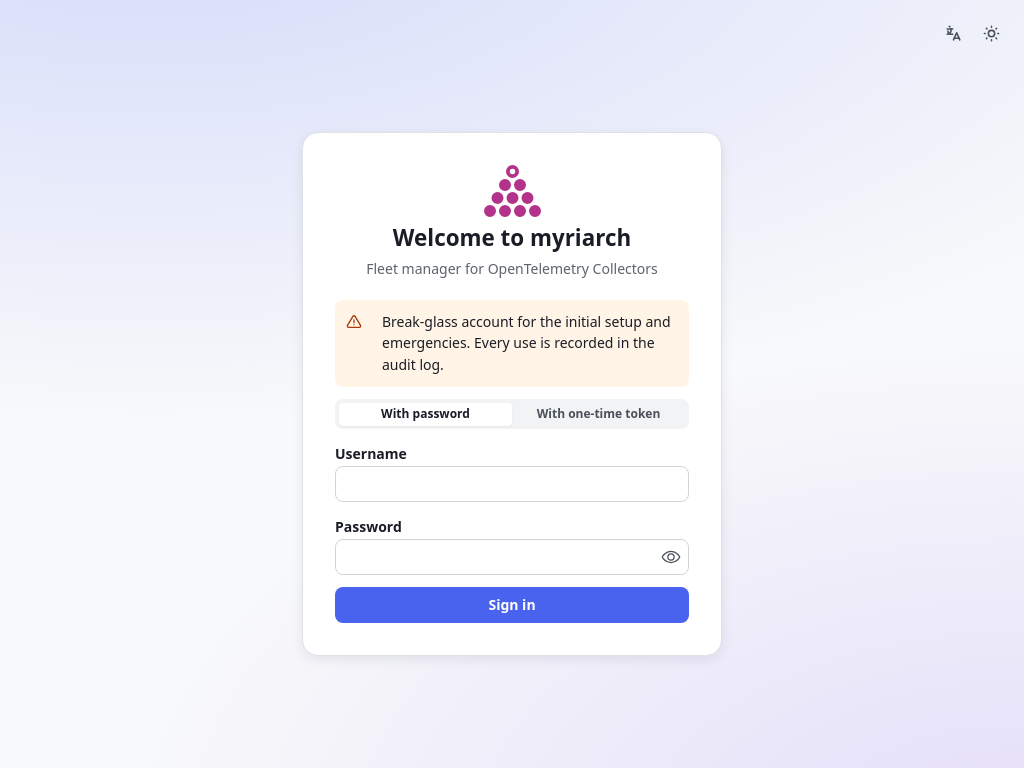
Test: login page: bootstrap admin › switches between password and token when both are enabled
expect the field labelled "Username" is shown: met, box [335,466,689,502]
Click the text "With one-time token".
click(599, 413)  # box [537,405,660,422]
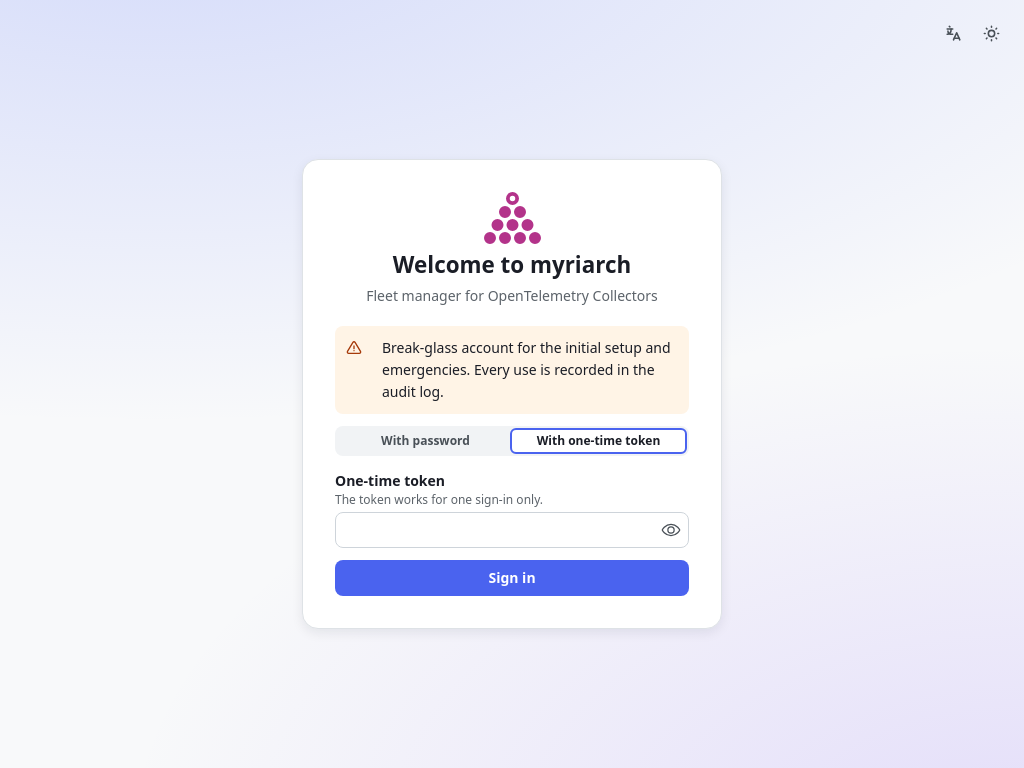
expect the password field labelled "One-time token" is shown: met, box [336,513,688,547]
expect no fields are shown: met
Click the text "With password".
click(426, 440)  # box [381,432,470,448]
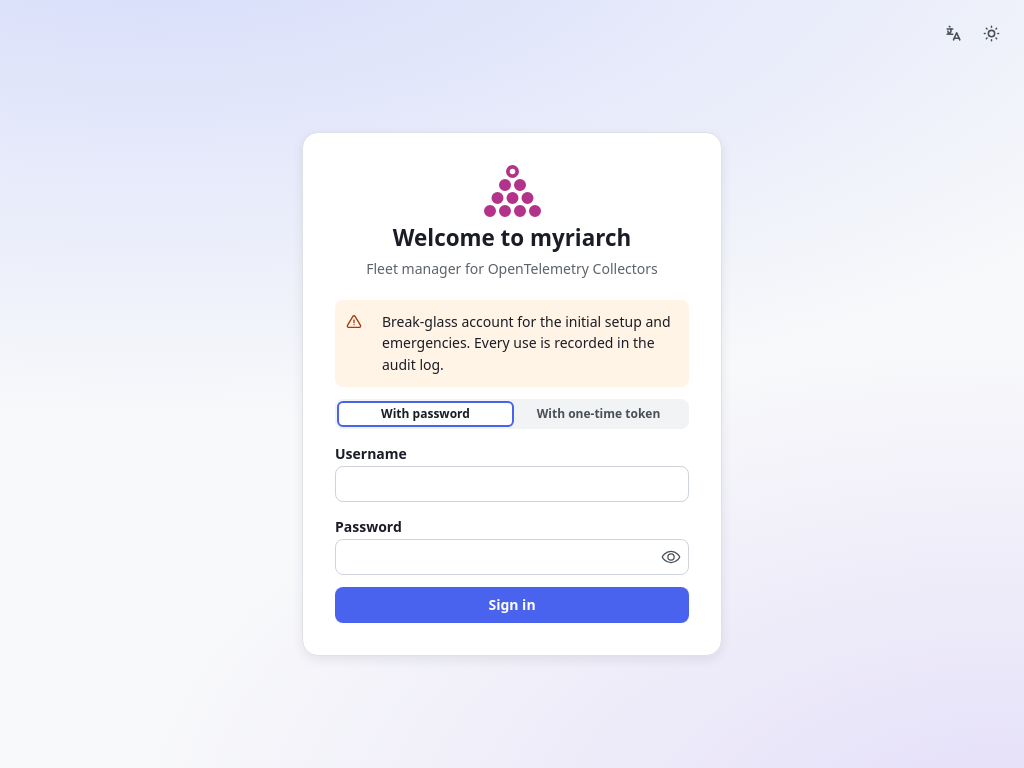
expect the field labelled "Username" is shown: met, box [335,466,689,502]
